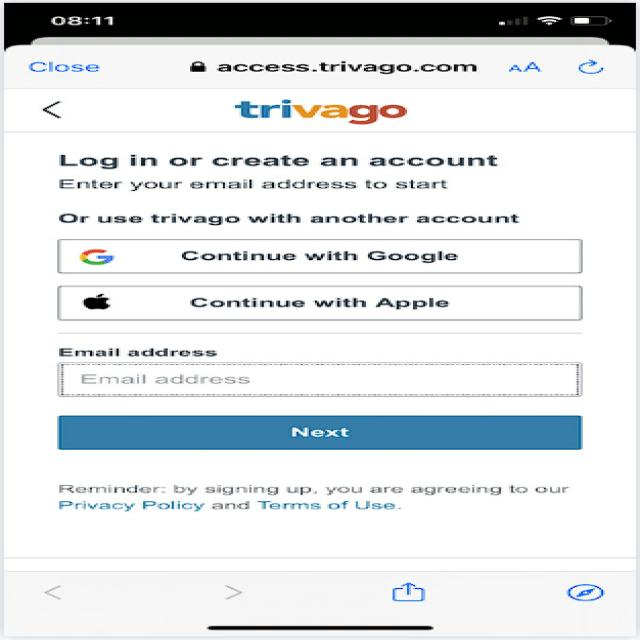button: (47, 279, 598, 331), (35, 412, 612, 458), (47, 230, 587, 279)
icon button: (24, 90, 94, 132)
input: (39, 335, 598, 405)
text: (44, 140, 592, 202), (35, 473, 606, 521)
